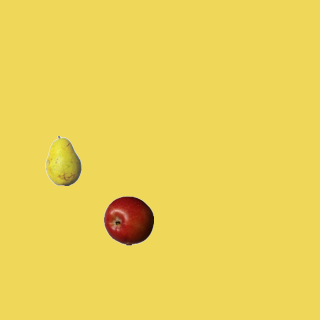Apple Braeburn: (103, 195, 153, 245)
Pear Monster: (38, 135, 88, 185)
